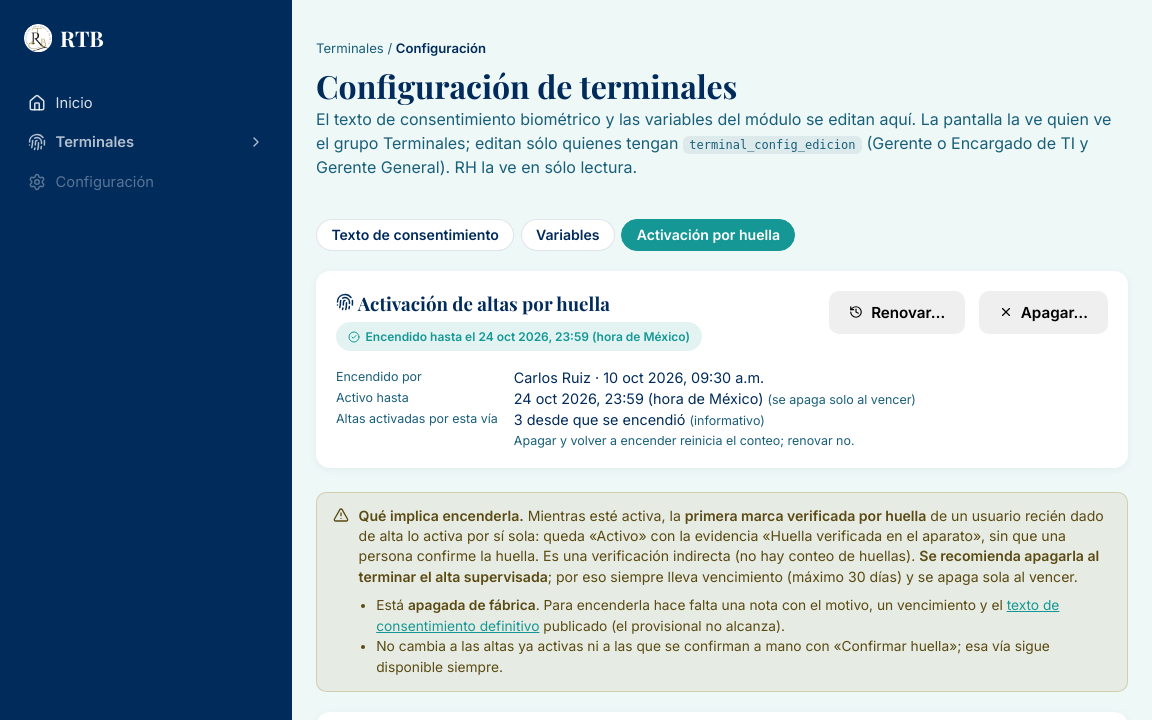
Test: ActivacionHuellaPage › acciones › Apagar: pide confirmación, apaga y muestra el aviso
This screenshot has width=1152, height=720.
Click the button "Apagar…" at (1043, 312), box [979,291,1108,334]
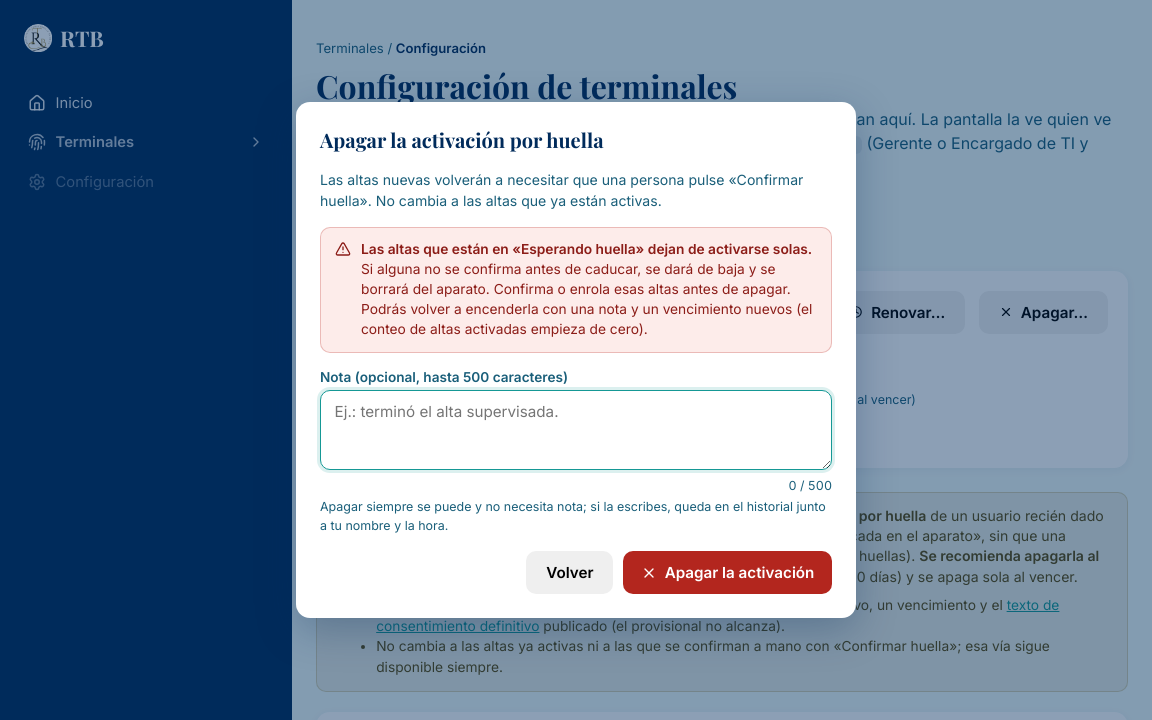
Click the button "Apagar la activación" at (728, 573), box [623,551,832,594]
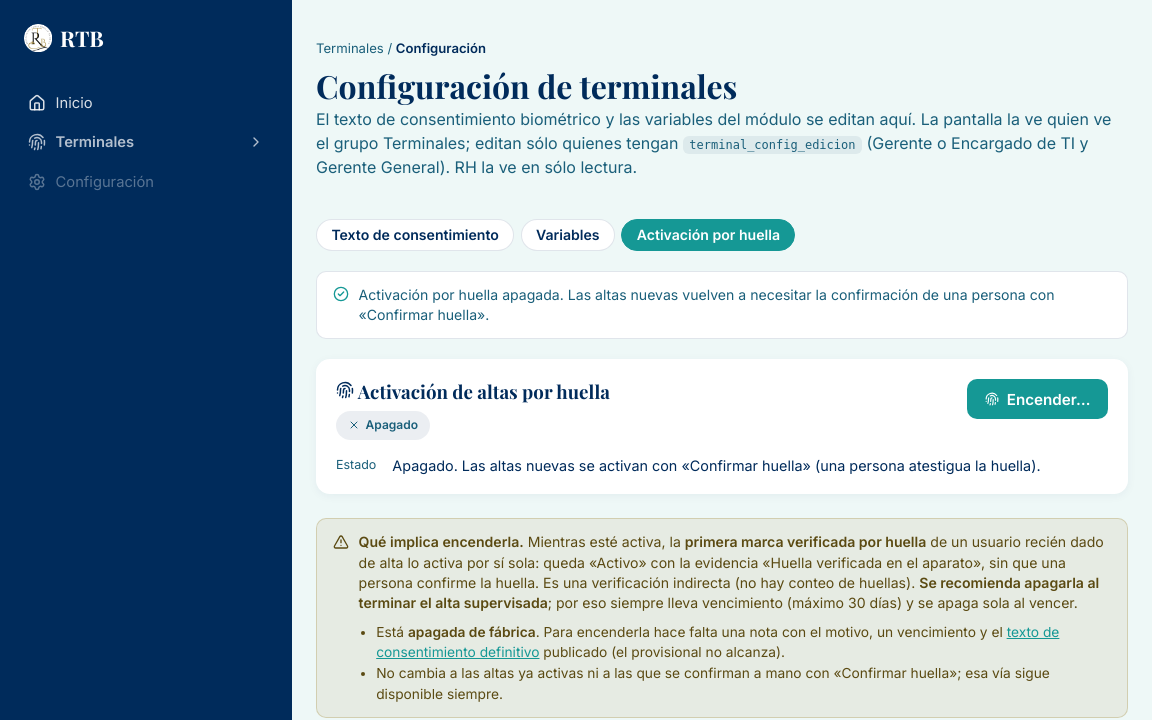
Check: the text "Activación por huella apagada." is shown, box [359,286,1054,323]
Check: the text "Apagado" is shown, box [336,411,430,440]
Check: the button "Encender…" is shown, box [967,379,1108,419]
